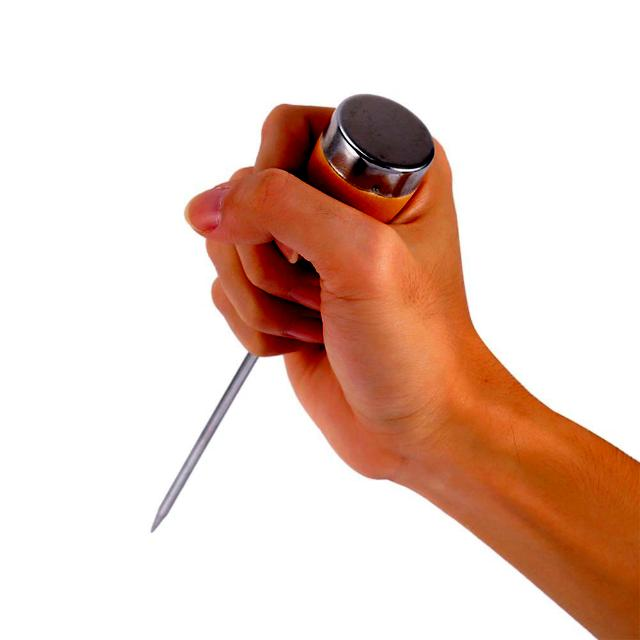ice pick: (148, 96, 434, 534)
